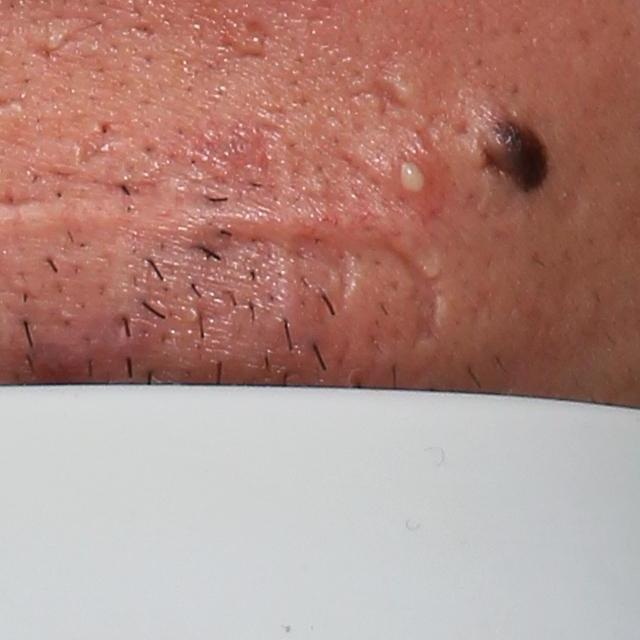atrophic_scar: (71, 117, 134, 167), (228, 15, 280, 67), (362, 63, 401, 119), (28, 40, 71, 65), (129, 20, 160, 42)
nevus: (470, 110, 560, 198)
pustule: (391, 157, 433, 198)
